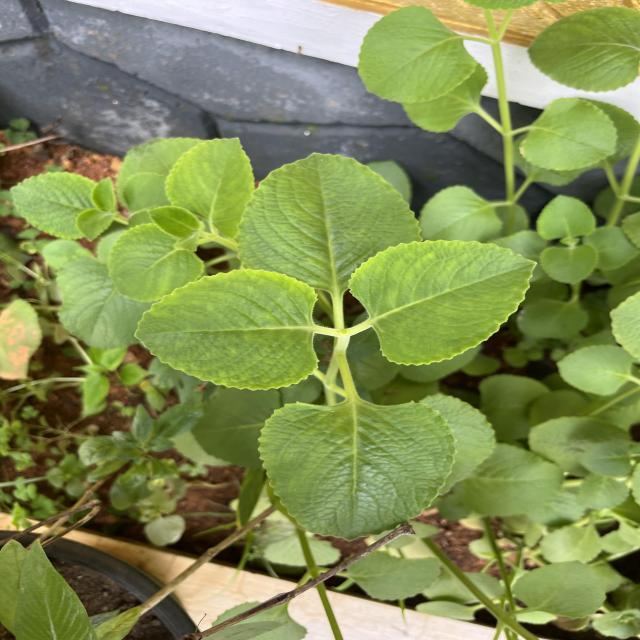Plectranthus barbatus: (256, 400, 458, 542), (348, 238, 538, 366), (134, 268, 321, 392), (234, 150, 424, 270), (356, 4, 478, 106), (526, 5, 640, 95), (164, 136, 255, 238), (57, 258, 148, 350), (107, 222, 206, 303), (518, 97, 619, 172), (468, 443, 558, 517), (9, 171, 99, 241), (511, 559, 607, 621), (555, 344, 632, 396), (535, 193, 598, 242), (539, 244, 600, 286), (147, 206, 202, 240)
